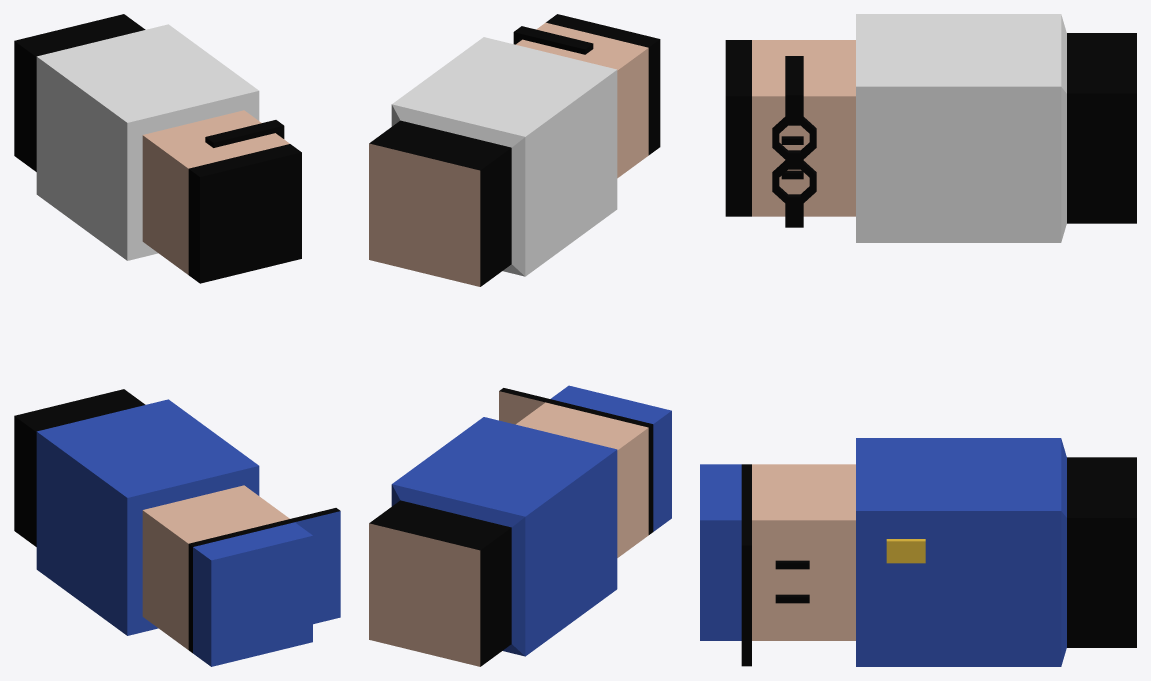
3 renders of one model, left to right at view 1: azimuth 30°, elevation 25°; view 2: azimuth 150°, elevation 25°; view 3: azimuth 270°, elevation 25°, orthographic. The views are drawn at different scales.
Visible parts, largest first — view 1: Cube, Cube.001; view 2: Cube, Cube.001; view 3: Cube, Cube.001.
Boxes of the visible parts, <box> form: Cube: <box>14,389,340,666</box>; Cube.001: <box>14,14,301,283</box>; Cube: <box>369,385,671,666</box>; Cube.001: <box>369,14,660,286</box>; Cube: <box>700,438,1136,666</box>; Cube.001: <box>725,14,1136,242</box>.
Bounding box in the file's own units: 178 × 535 × 365.
